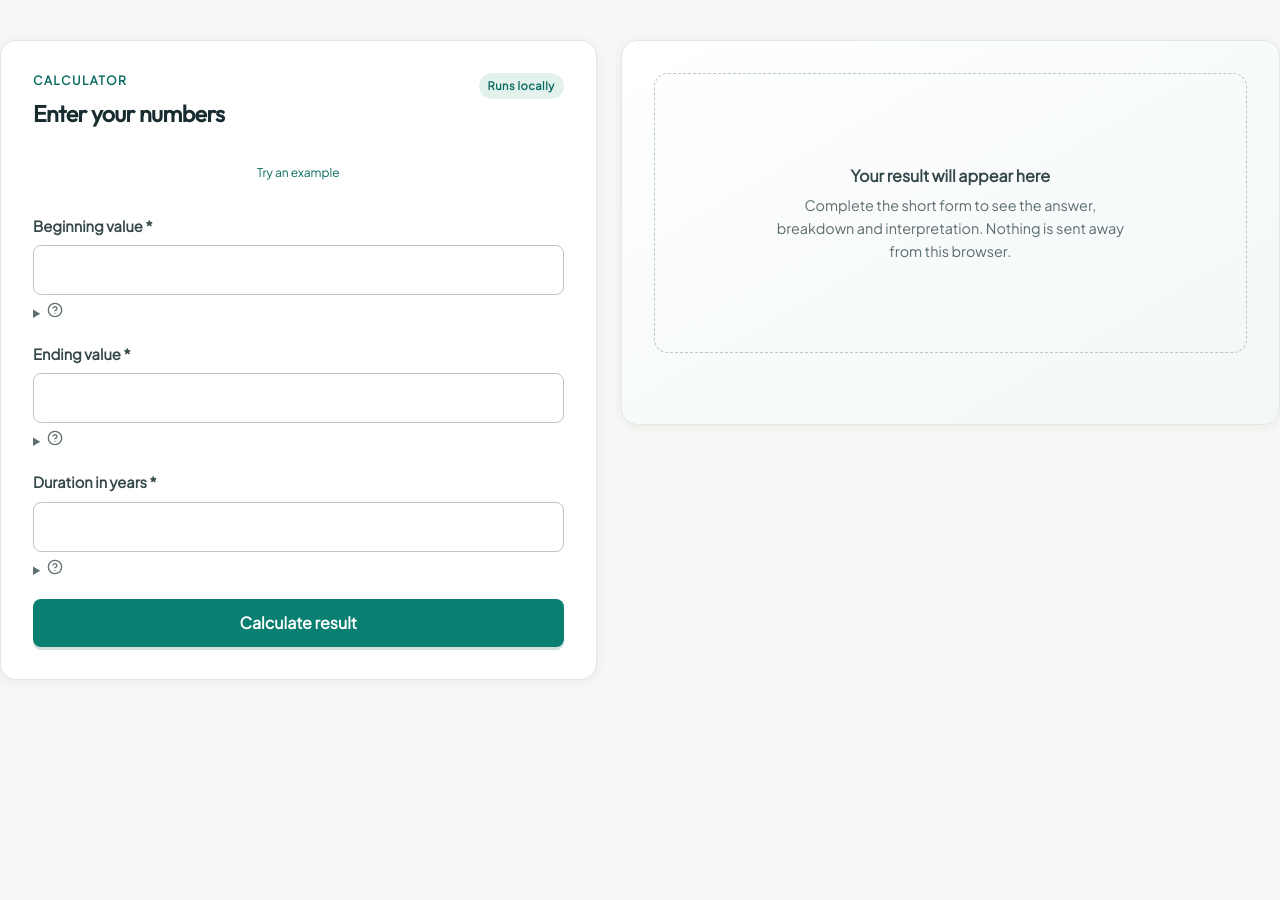
Test case: calculator form integration › shows linked validation errors and preserves the entered values
Click the button "Try an example".
click(298, 173)  # box [33,151,564,195]
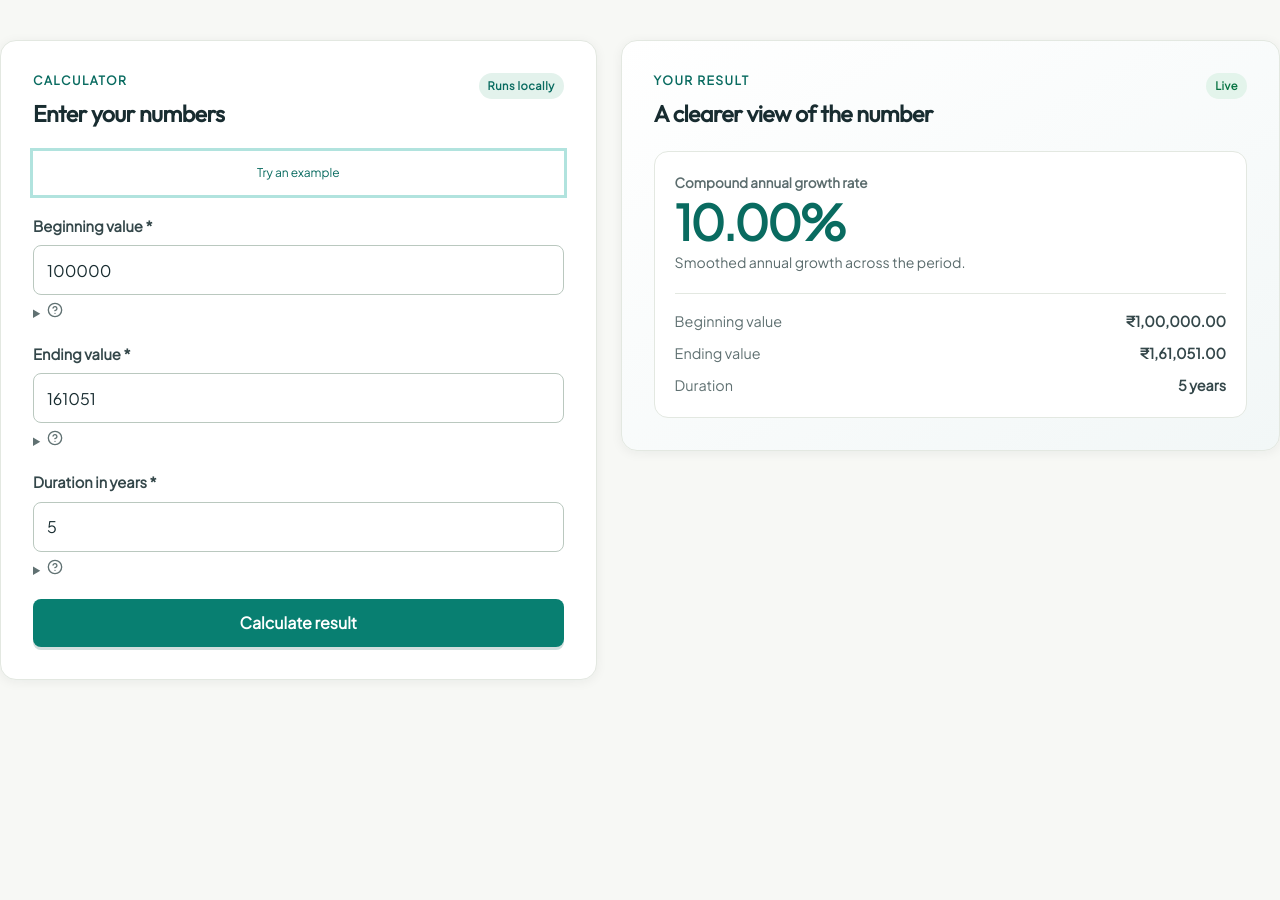
Replace the text in the field labelled "Beginning value *" with "0" at {"x": 298, "y": 270}, box [33,245,564,295]
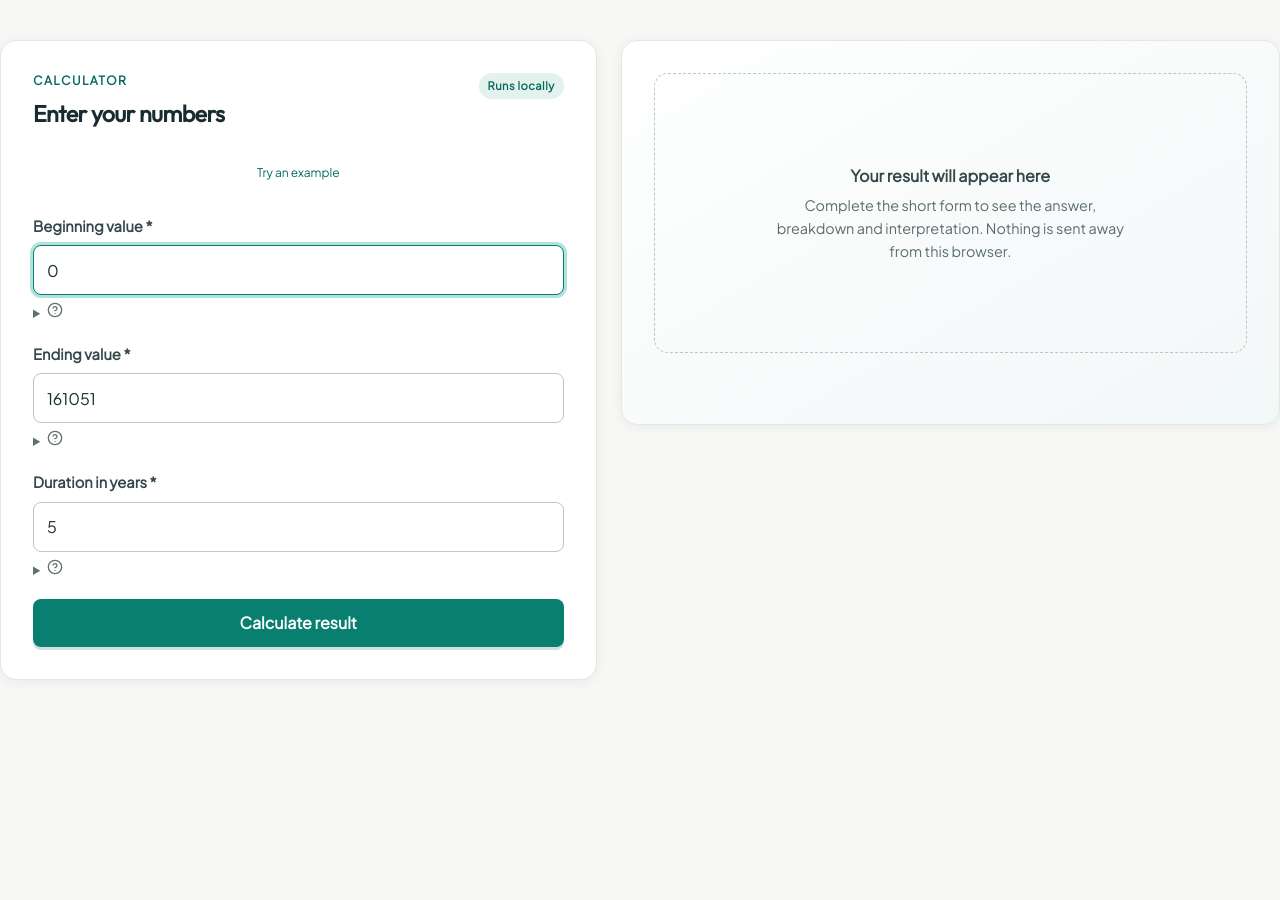
Click the button "Calculate result".
click(298, 623)  # box [33,599,564,647]
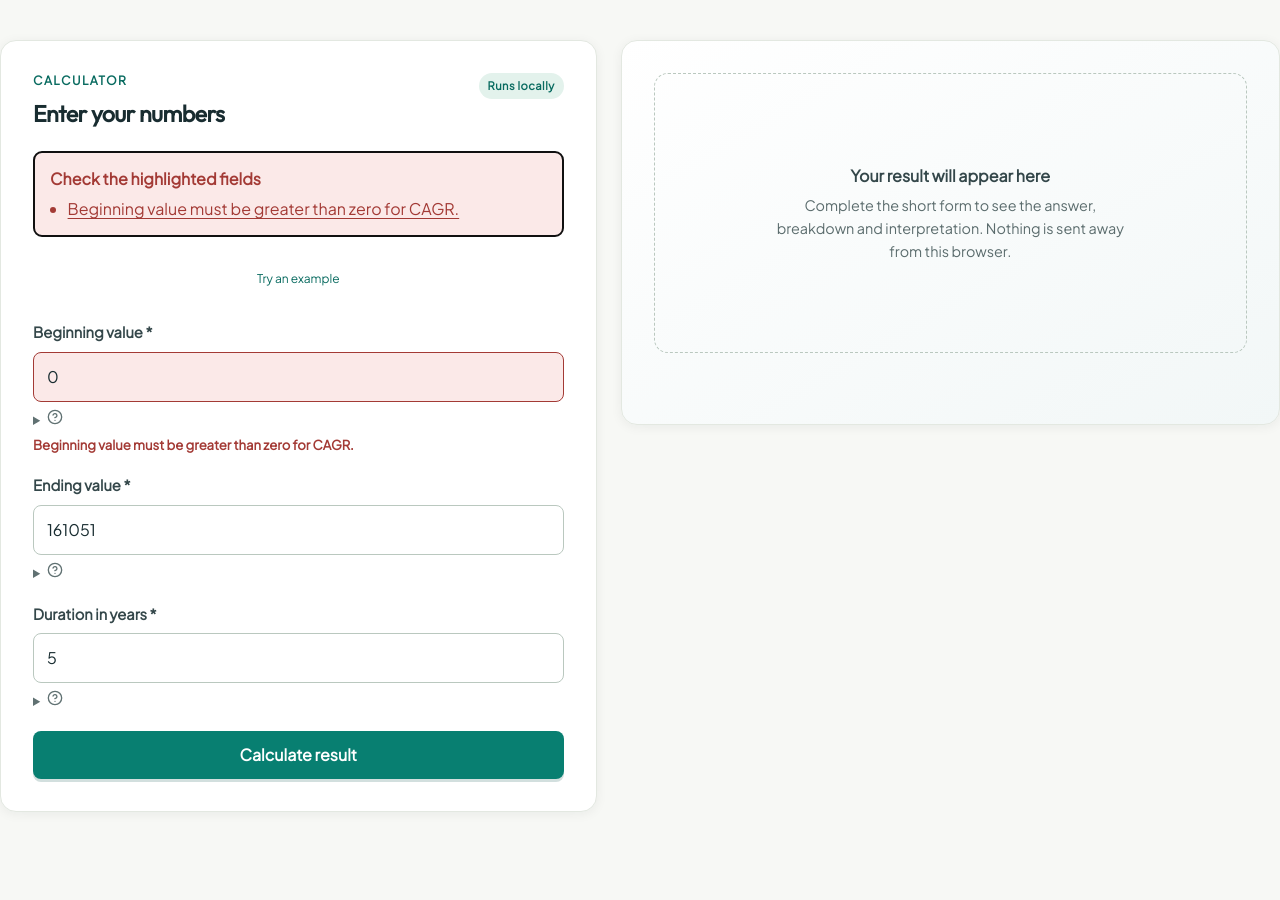
Check: the message with id "beginningValue-error" reads "Beginning value must be greater than zero for CAGR.", box [33,436,354,453]
